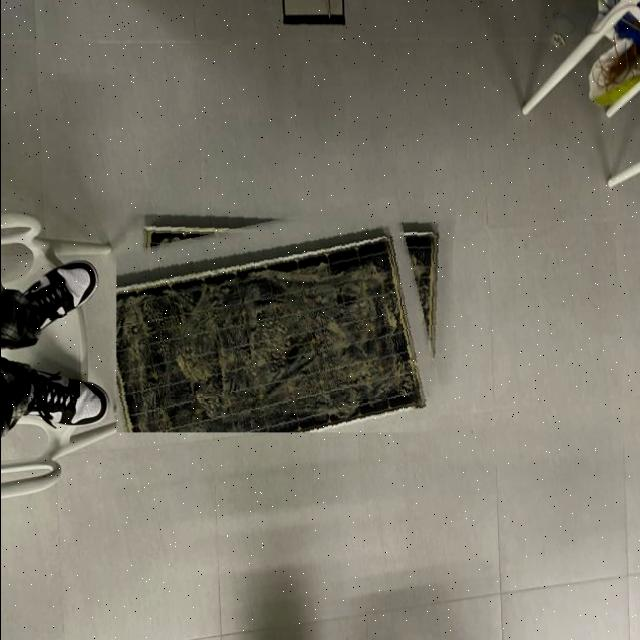Surface Contaminant: (114, 211, 450, 433)
